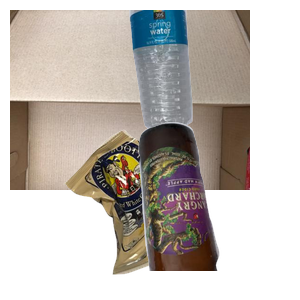cardboard: (10, 10, 250, 190)
glass: (136, 120, 300, 300)
plastic: (127, 10, 300, 134)
trash: (61, 127, 260, 300)
